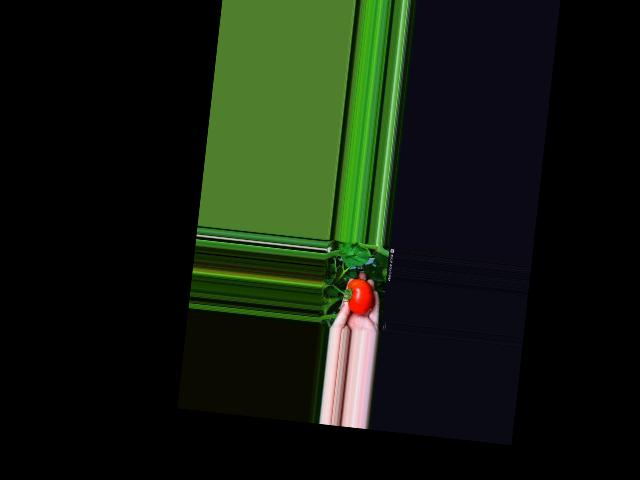tomato: (345, 278, 376, 316)
